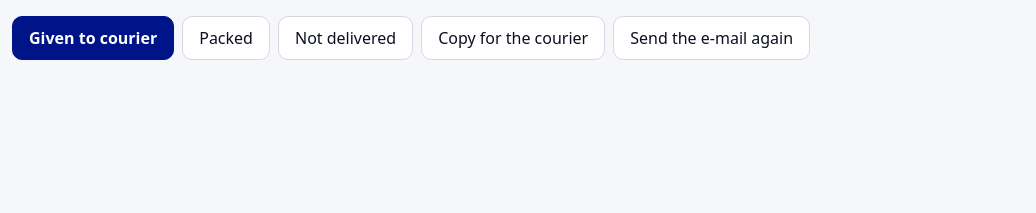
Test: the repeat e-mail button › shows any other refusal as an error
What coordinates should you click on to do the following:
click the button with test id "shop-order-resend"
I would click on:
 (712, 38)
Its box is [613,16,810,60].
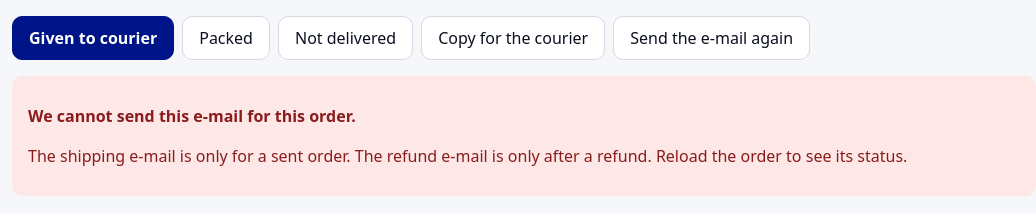
expect the message with test id "shop-order-error" is shown: met, box [12,76,1035,196]
